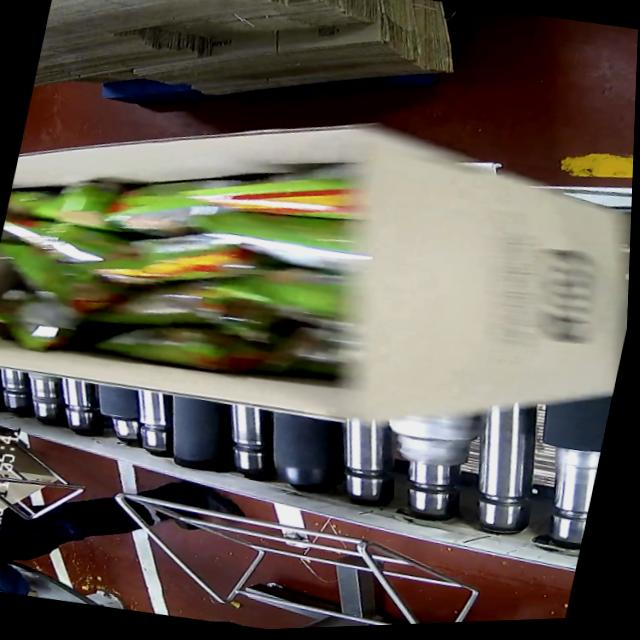YOGURT_HERB: (0, 145, 380, 406)
